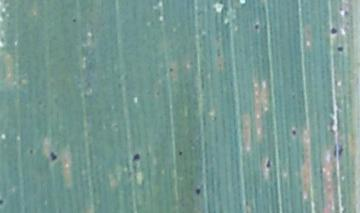tarspot: (330, 142, 346, 160), (130, 151, 143, 164), (47, 150, 59, 164), (339, 6, 351, 18), (264, 157, 274, 170), (289, 127, 299, 139), (193, 186, 203, 197), (329, 26, 338, 37), (335, 44, 346, 53), (253, 22, 262, 32), (27, 148, 36, 156), (168, 65, 175, 73), (177, 149, 182, 159), (71, 17, 78, 24), (1, 196, 5, 208)
